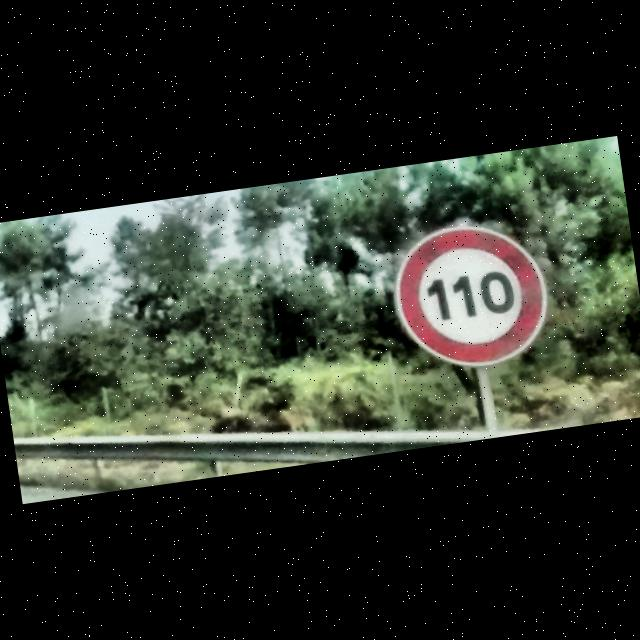speed_110: (385, 214, 559, 378)
